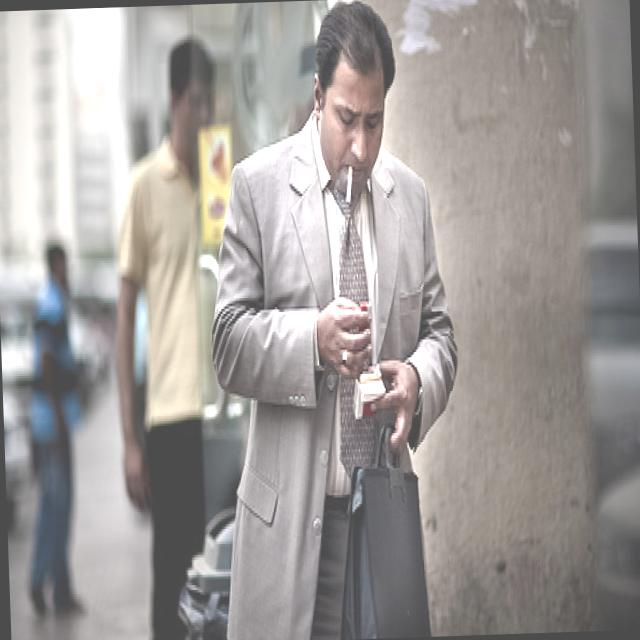Vehicle: (578, 221, 640, 503), (172, 499, 254, 640), (593, 435, 640, 630), (2, 388, 32, 544), (68, 322, 112, 402)
